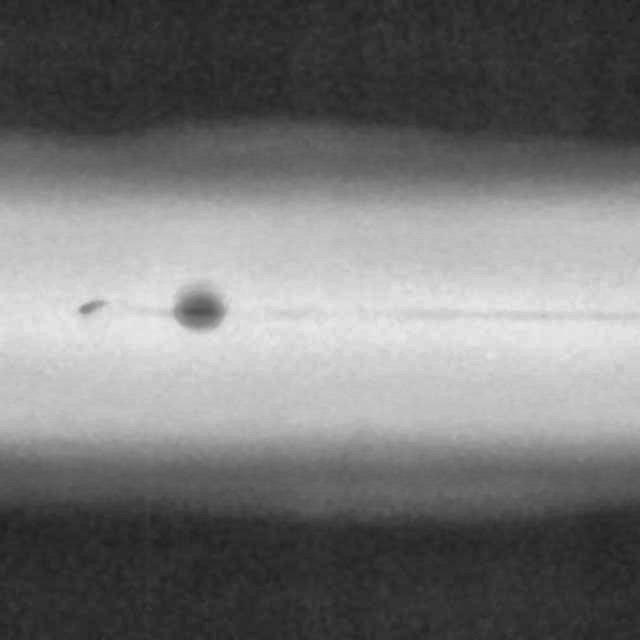LoP-LoF: (239, 299, 640, 338)
Pore: (159, 278, 231, 342), (68, 286, 103, 328)
